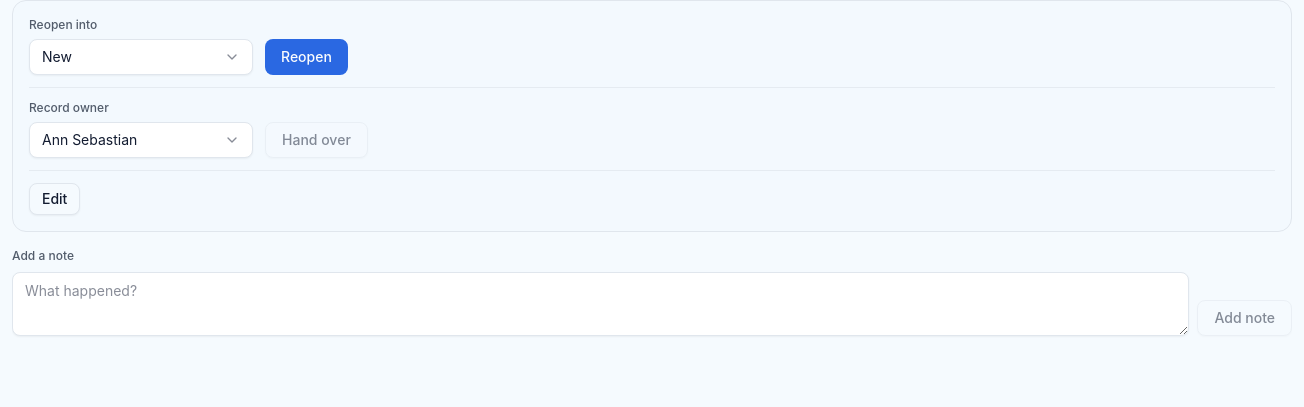
Test case: the stage picker follows the server, not the last thing clicked › does the same for Reopen
Click the dropdown named "Reopen into" at [141, 57], box top-left (29, 39), bottom-right (253, 75)
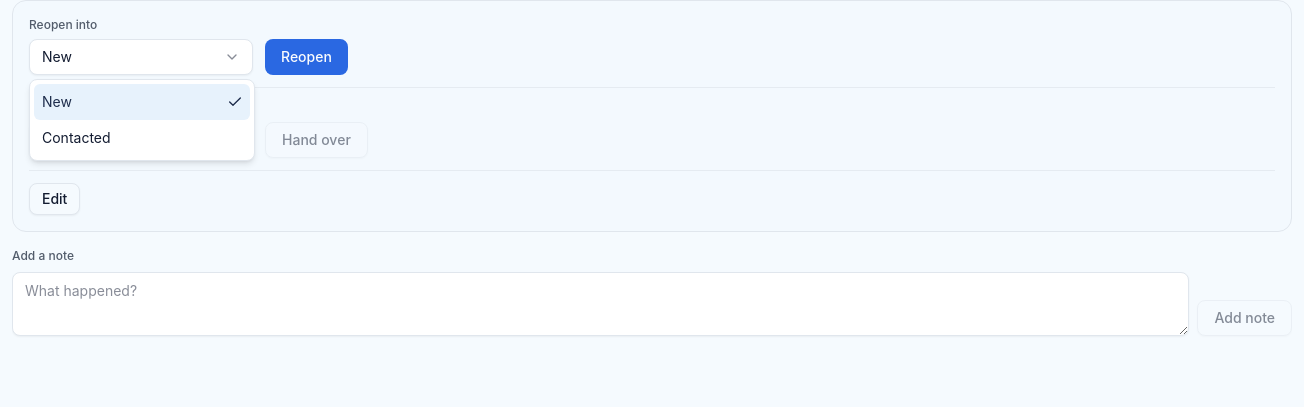
Click the option "Contacted" at [76, 138], box top-left (42, 129), bottom-right (111, 146)
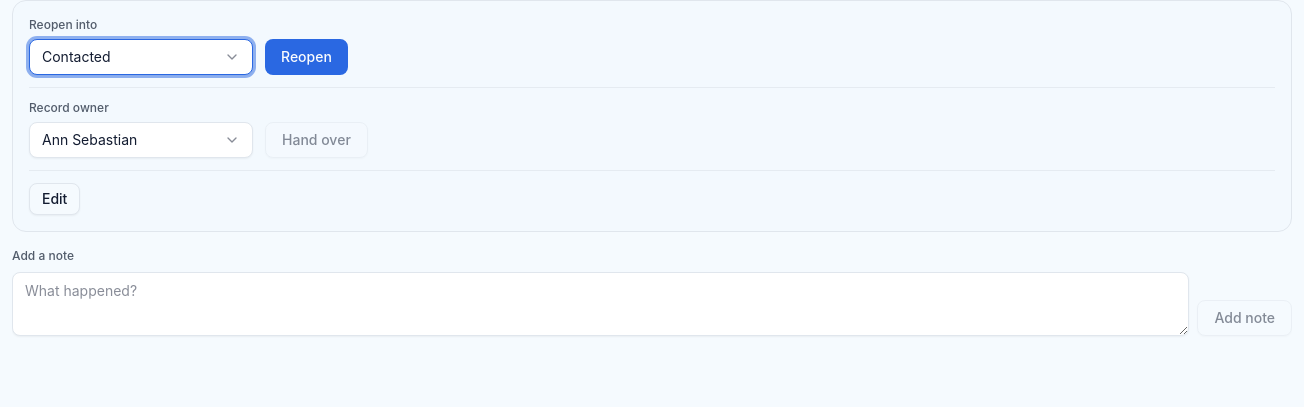
Check: the dropdown named "Reopen into" reads "Contacted", box top-left (29, 39), bottom-right (253, 75)
Click the button "Reopen" at [306, 57], box top-left (265, 39), bottom-right (348, 75)
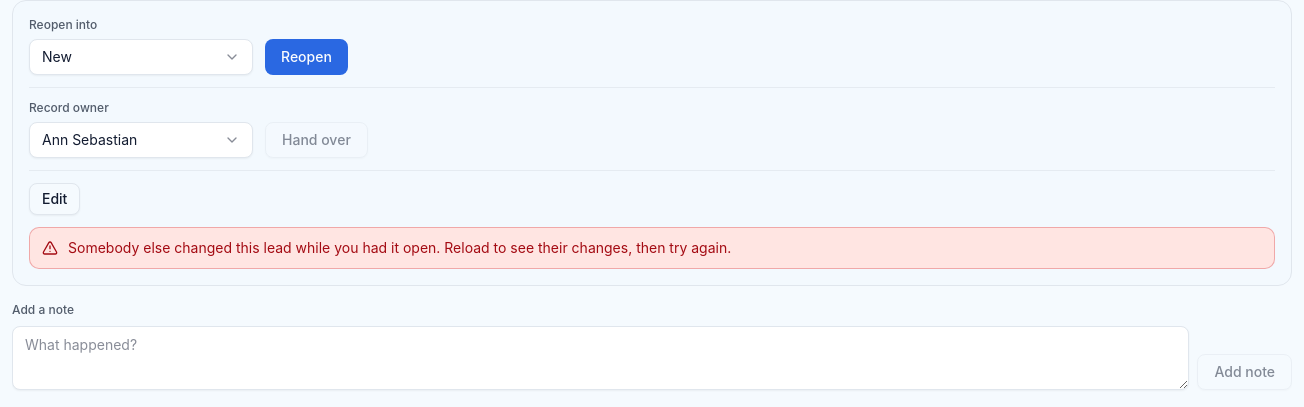
Check: the text "Somebody else changed this lead" is shown, box top-left (68, 239), bottom-right (731, 256)
Check: the dropdown named "Reopen into" reads "New", box top-left (29, 39), bottom-right (253, 75)
